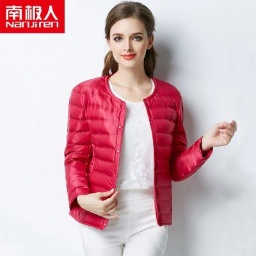face: (99, 1, 159, 82)
